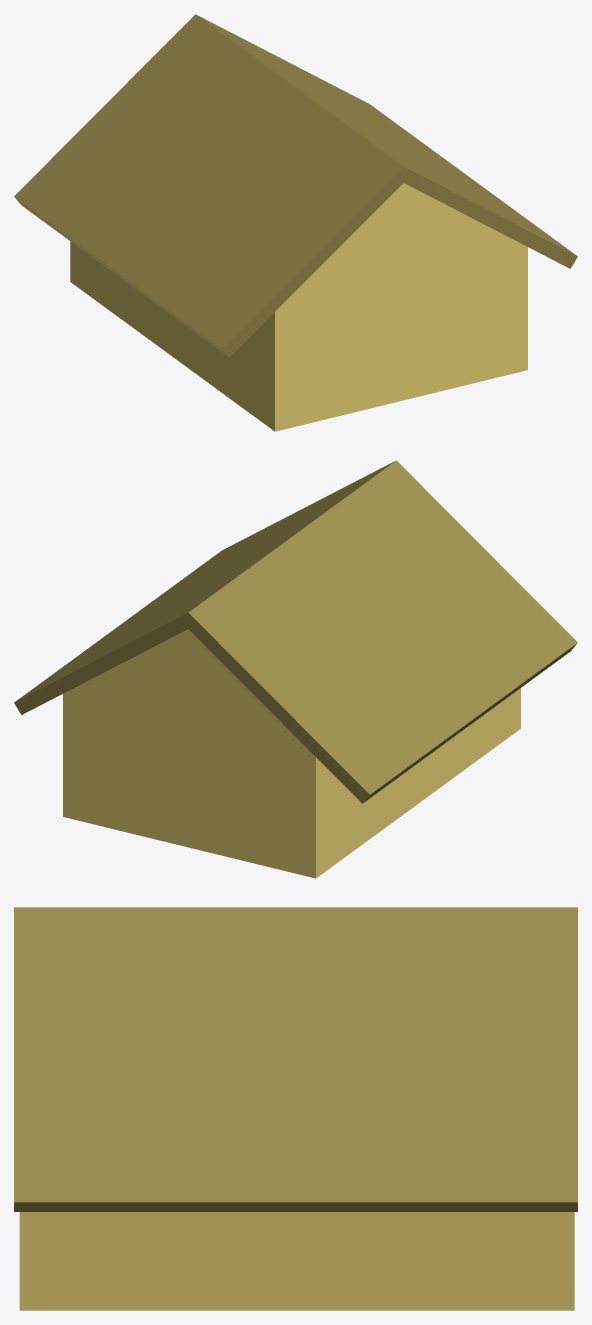
The model's file is result.glb.
3 renders of one model, top to bottom at view 1: azimuth 30°, elevation 25°; view 2: azimuth 150°, elevation 25°; view 3: azimuth 270°, elevation 25°, orthographic. The views are drawn at different scales.
Visible parts, largest first — view 1: d62f3108-a68a-4f45-a929-9badbc0f8678__undefined (×2), 99d3588d-df2b-4e29-894f-1105dc7a4843__undefined; view 2: d62f3108-a68a-4f45-a929-9badbc0f8678__undefined (×2), 99d3588d-df2b-4e29-894f-1105dc7a4843__undefined; view 3: d62f3108-a68a-4f45-a929-9badbc0f8678__undefined, 99d3588d-df2b-4e29-894f-1105dc7a4843__undefined.
Part boxes in pixels (box(x1,y1,x2,y2)): d62f3108-a68a-4f45-a929-9badbc0f8678__undefined (×2): box(14, 14, 577, 357); 99d3588d-df2b-4e29-894f-1105dc7a4843__undefined: box(70, 183, 527, 431); d62f3108-a68a-4f45-a929-9badbc0f8678__undefined (×2): box(14, 460, 577, 803); 99d3588d-df2b-4e29-894f-1105dc7a4843__undefined: box(63, 629, 520, 878); d62f3108-a68a-4f45-a929-9badbc0f8678__undefined: box(14, 907, 577, 1211); 99d3588d-df2b-4e29-894f-1105dc7a4843__undefined: box(19, 1212, 574, 1310).
Size of the model in its own units: 702 by 445 by 711.
